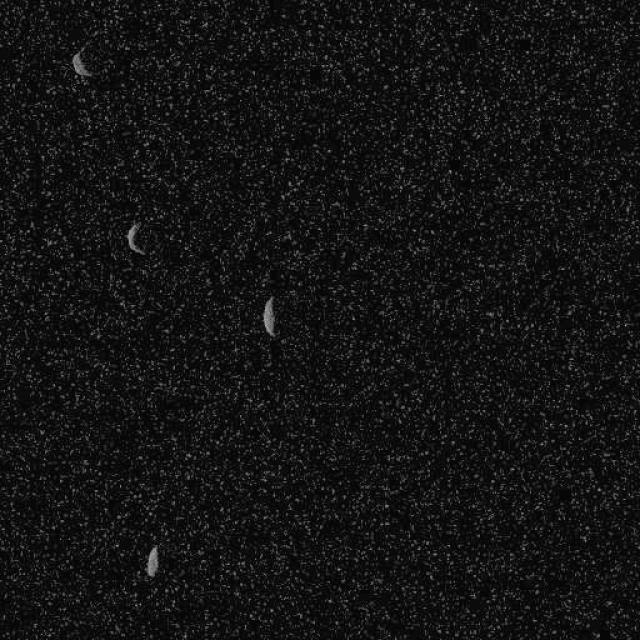D2: (70, 46, 94, 78), (125, 220, 146, 255), (262, 295, 276, 336), (145, 544, 159, 578)
